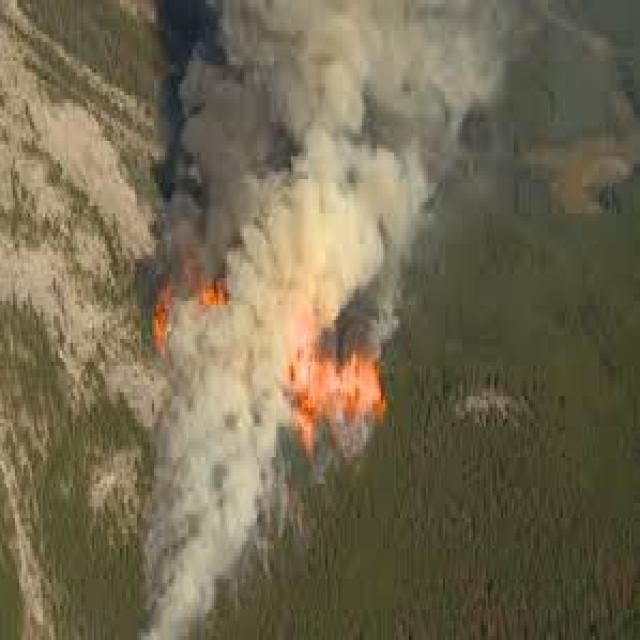Fire: (290, 334, 392, 453), (137, 244, 229, 336)
Smoke: (320, 0, 501, 321), (126, 338, 296, 638), (163, 2, 320, 276)
